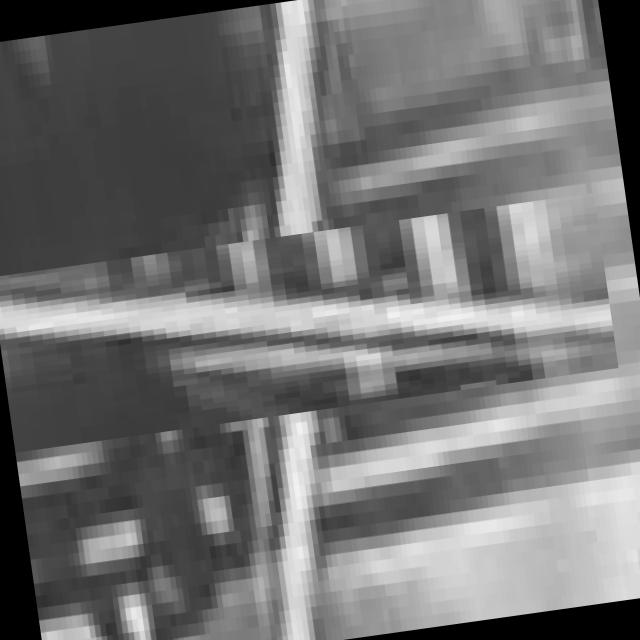stick: (58, 94, 520, 556)
